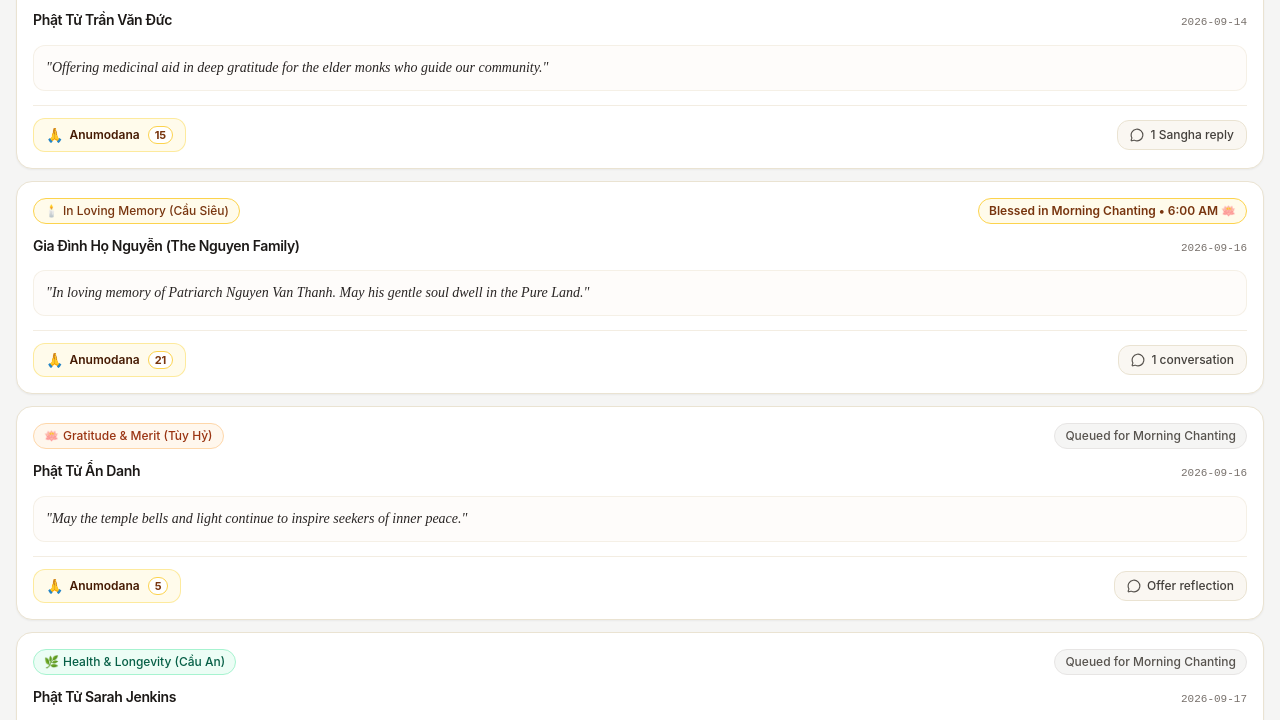
Test: PrayerWall & Sangha Dialogue › displays prayer dedications, rejoices in merit, and opens community dialogue
The width and height of the screenshot is (1280, 720).
(page scrolled)
Expected: the heading "Gia Đình Họ Nguyễn (The Nguyen Family)" is shown, [33,236,300,256]
Expected: the text "Blessed in Morning Chanting • 6:00 AM 🪷" is shown, [989,202,1236,218]
# Click conversation
Click the button "1 conversation". click: (1183, 360)
box: [1118,345,1247,375]
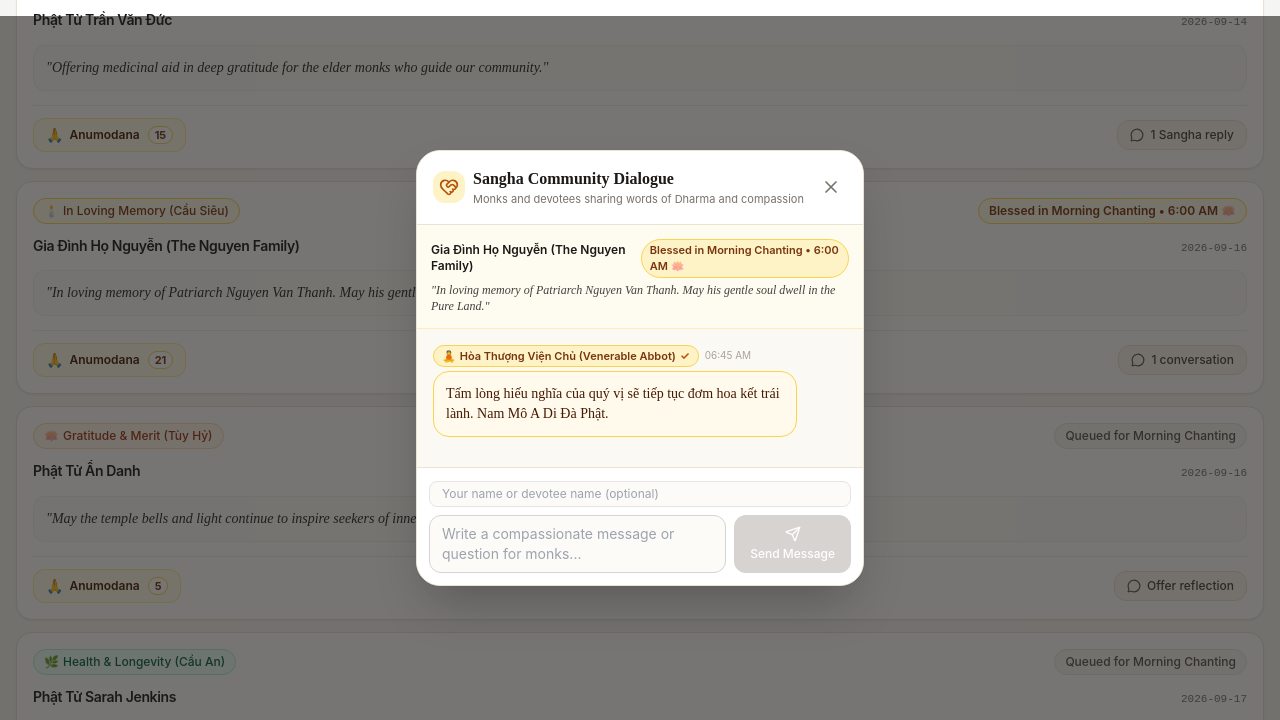
Result: the text "Hòa Thượng Viện Chủ (Venerable Abbot)" is shown at [460,348,676,364]
Result: the text box with placeholder "Write a compassionate message or question for monks..." is shown at [429,515,726,573]
